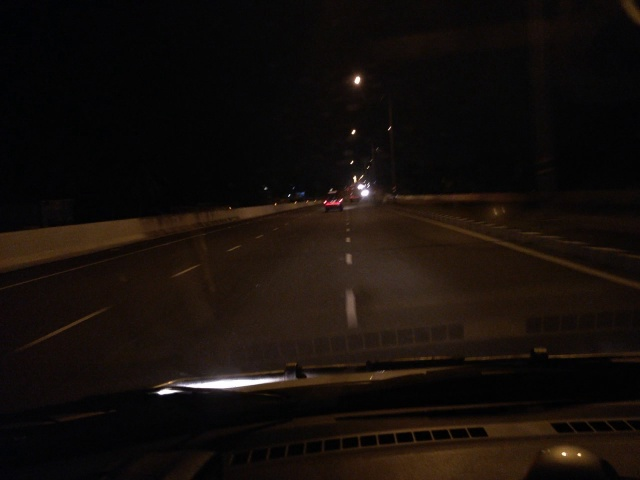car: (321, 191, 347, 210)
